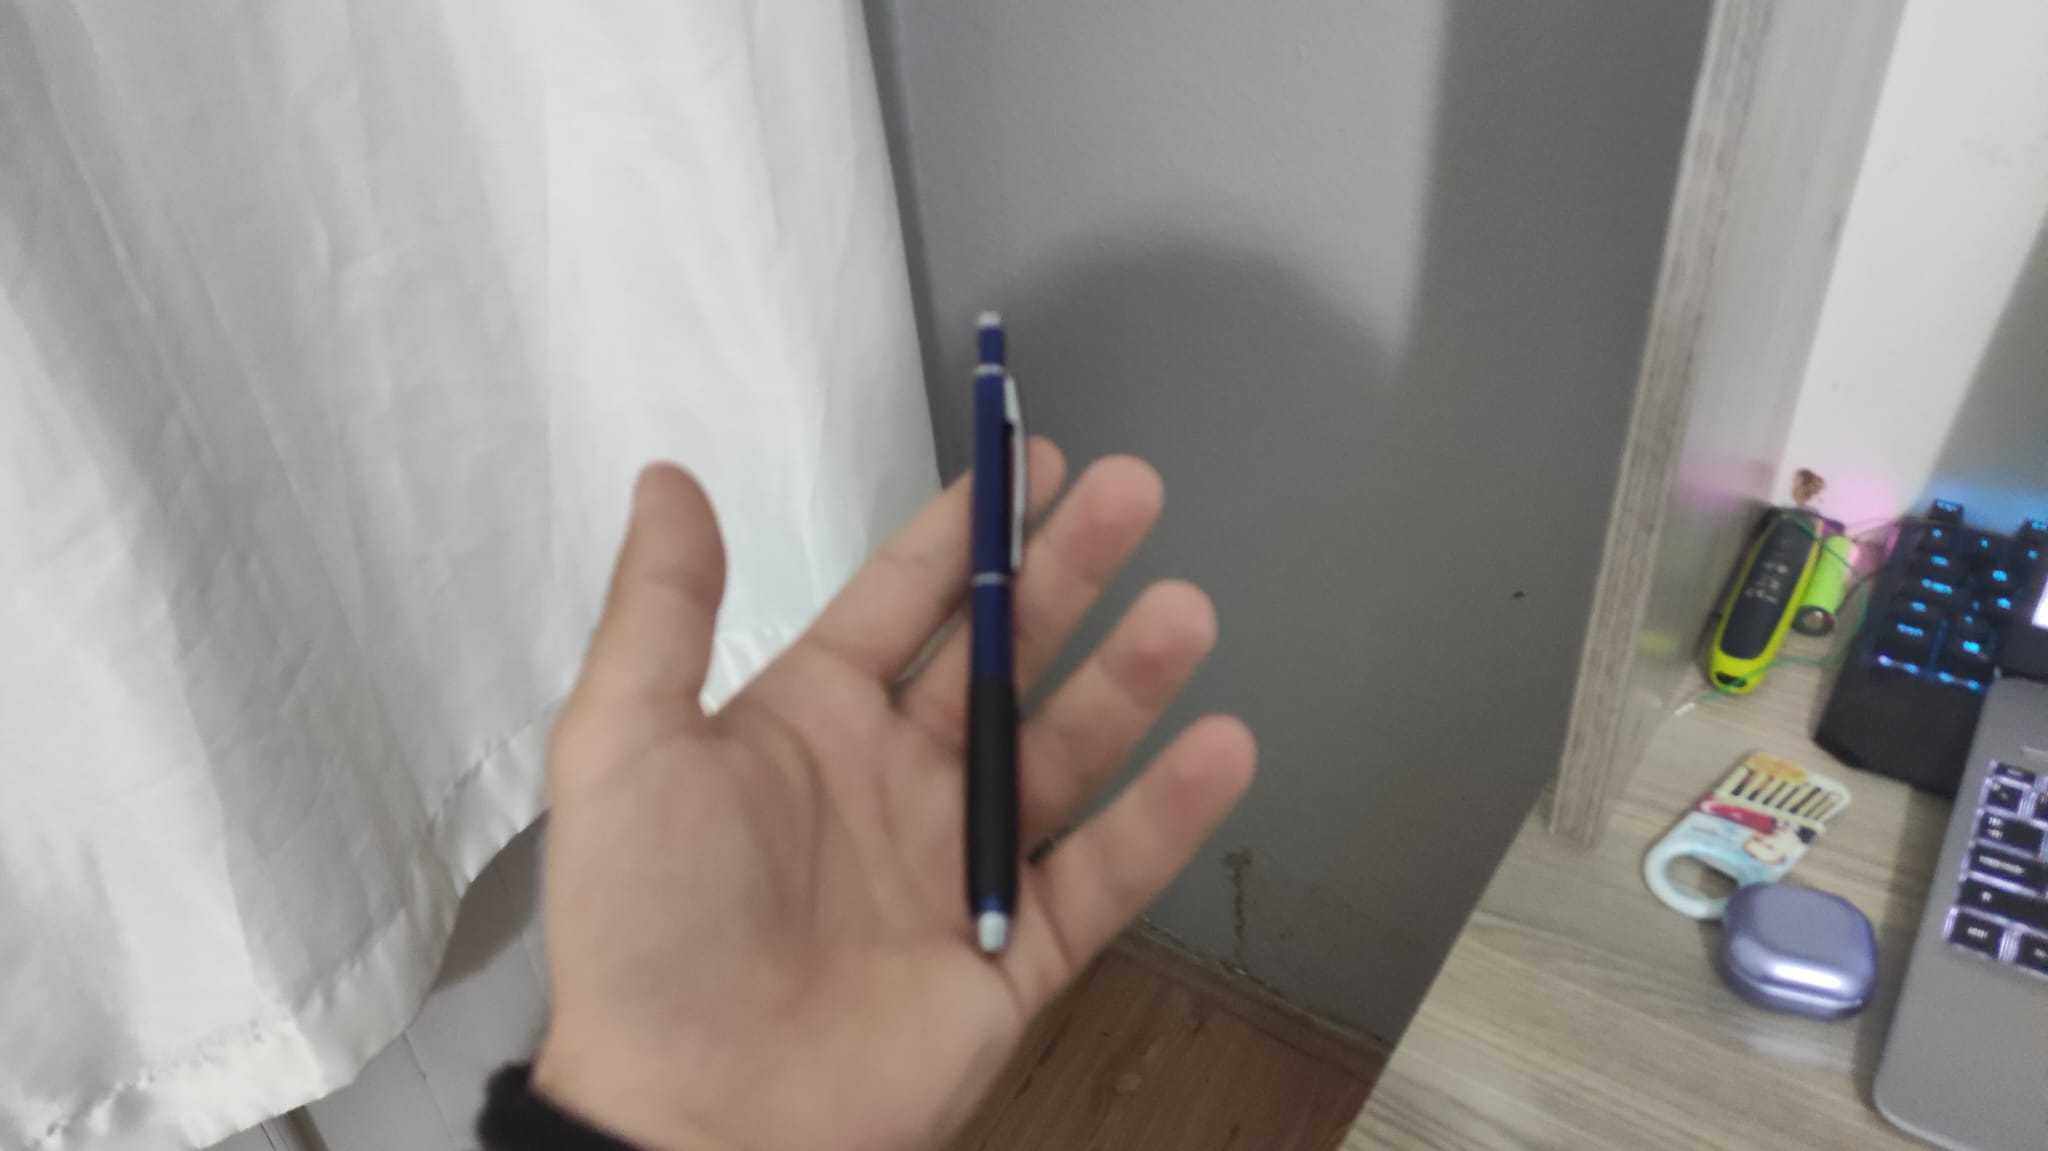kalem: (962, 305, 1030, 953)
